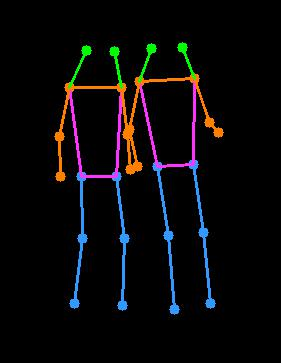normal: (124, 33, 236, 322), (43, 37, 135, 313)
